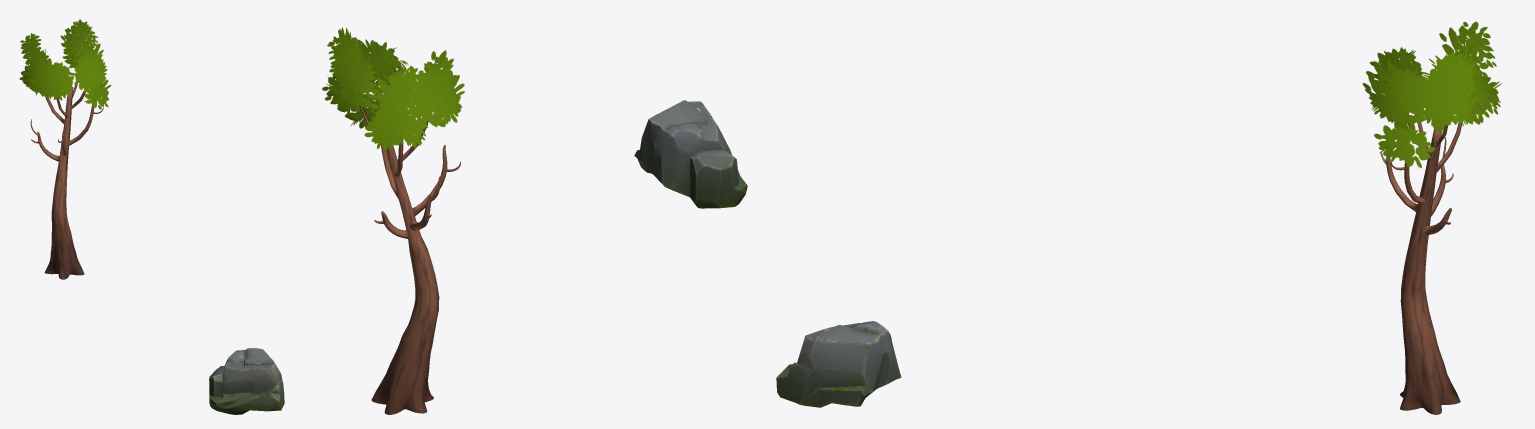
The model's file is test-world+1.glb.
3 views of the same model, side by side, from view 1: azimuth 30°, elevation 25°; view 2: azimuth 150°, elevation 25°; view 3: azimuth 270°, elevation 25° (orthographic). The views are drawn at different scales.
Parts seen in each view (by area): view 1: CommonTree_4[StaticNodePrefab], Rock_Medium_3[StaticNodePrefab]; view 2: CommonTree_4[StaticNodePrefab], Rock_Medium_3[StaticNodePrefab]; view 3: CommonTree_4[StaticNodePrefab], Rock_Medium_3[StaticNodePrefab].
Part boxes in pixels (x1,y1,x2,y2): CommonTree_4[StaticNodePrefab]: (19,19,111,279); Rock_Medium_3[StaticNodePrefab]: (209,348,284,414); CommonTree_4[StaticNodePrefab]: (322,27,464,414); Rock_Medium_3[StaticNodePrefab]: (634,100,747,208); CommonTree_4[StaticNodePrefab]: (1362,21,1501,414); Rock_Medium_3[StaticNodePrefab]: (776,321,901,407).
Size of what is drawn, in the model's own units: 5.02 by 12.38 by 21.8.
Materials: 3 (3 with a texture image).
